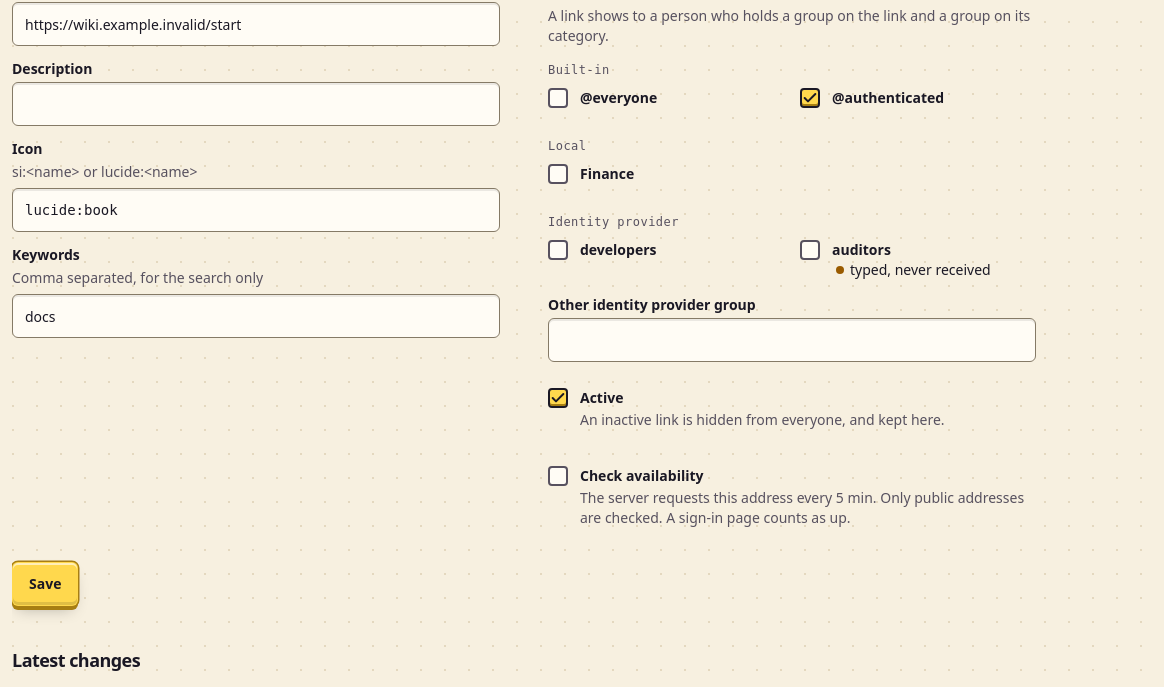
Test: LinkPage › turns read only when the server says CATALOG_FILE manages the catalog
(page scrolled)
Step 1. Click the checkbox labelled "Active" → [558, 398], box [548,388,568,408]
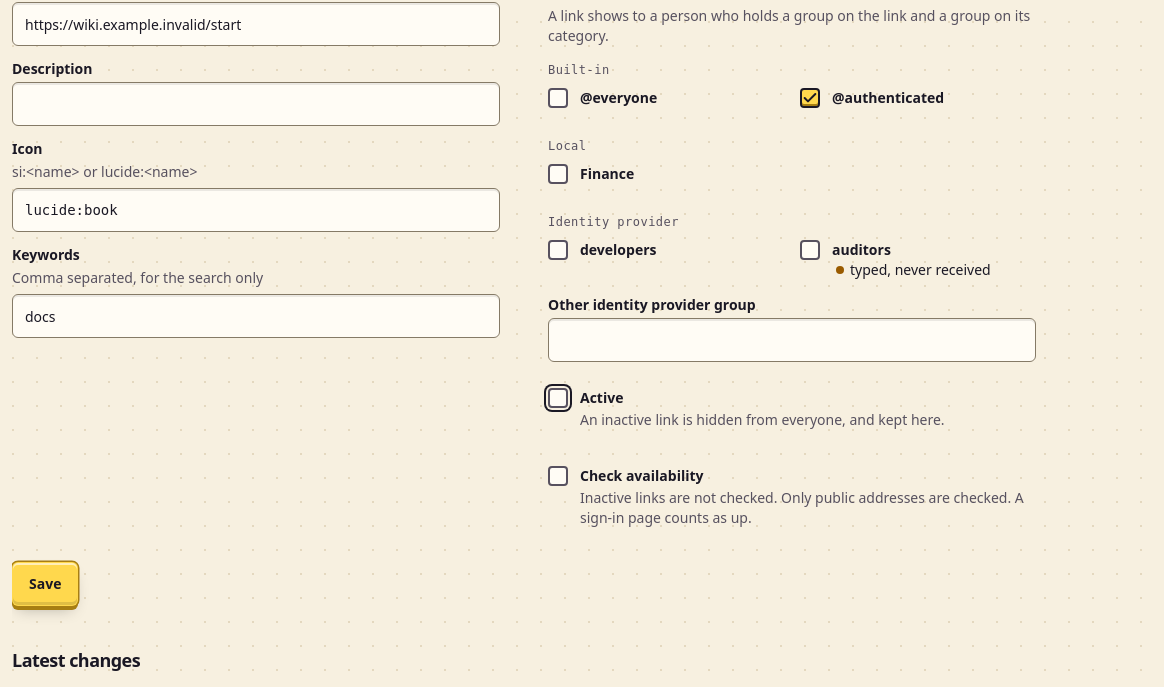
Step 2. Click the button "Save" → [45, 584], box [12,562,78,606]
(page scrolled)
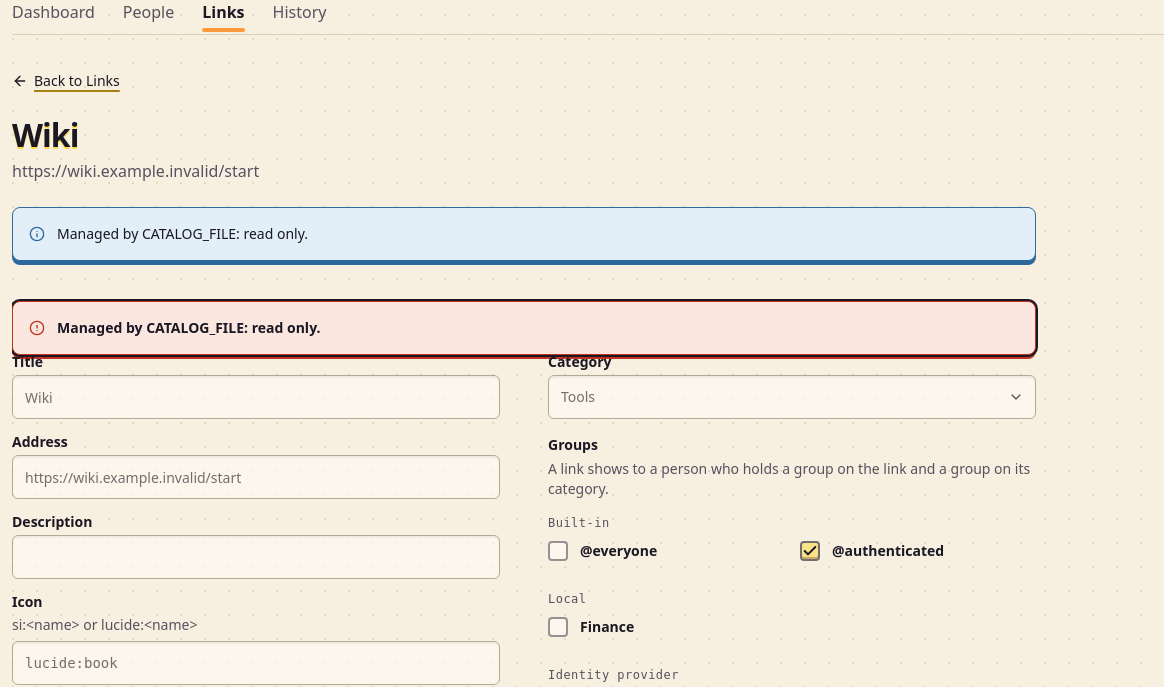
Result: the button "Save" is gone
Result: the field labelled "Title" is disabled at [12,375,500,419]
